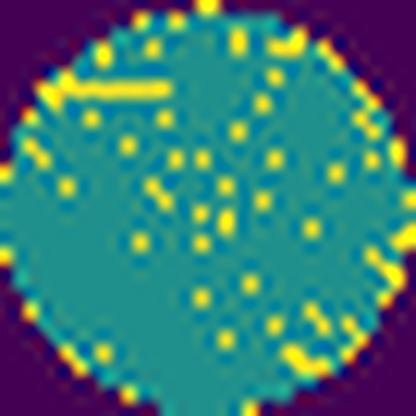Scratch: (36, 66, 176, 116)
